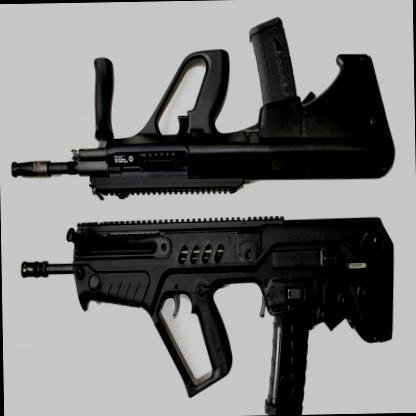rifle: (16, 201, 406, 416), (12, 15, 403, 209)
